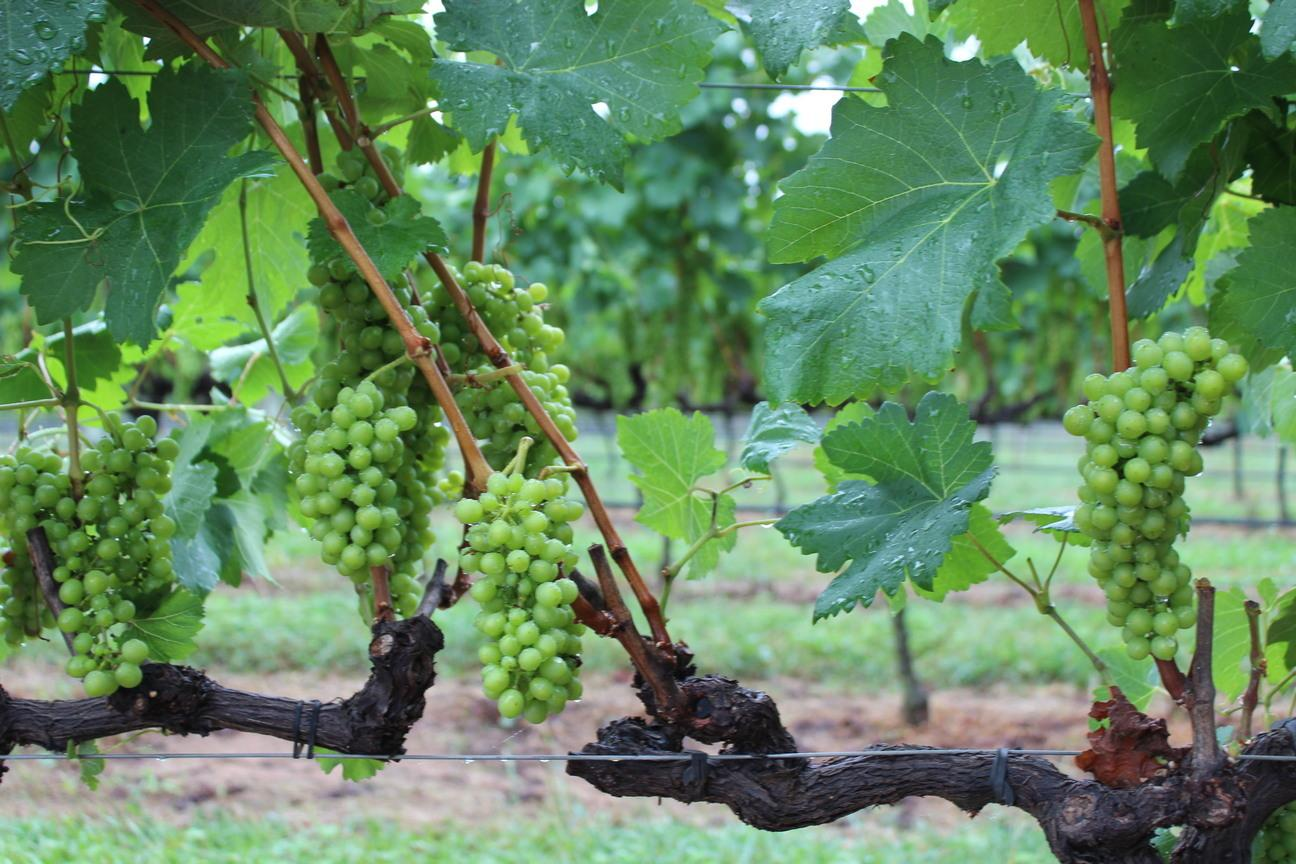leaf: (760, 35, 1095, 403), (12, 63, 270, 345), (429, 0, 722, 187), (776, 391, 994, 618), (1111, 8, 1295, 180), (191, 171, 315, 325), (617, 407, 734, 542), (1209, 207, 1295, 355), (0, 0, 104, 110), (331, 189, 446, 279), (914, 503, 1015, 599), (947, 0, 1088, 68), (727, 0, 848, 78), (119, 588, 201, 661), (740, 402, 822, 472), (1259, 0, 1295, 58), (306, 217, 342, 260), (1094, 0, 1128, 21), (687, 554, 716, 576), (706, 534, 735, 549), (703, 546, 704, 549)
